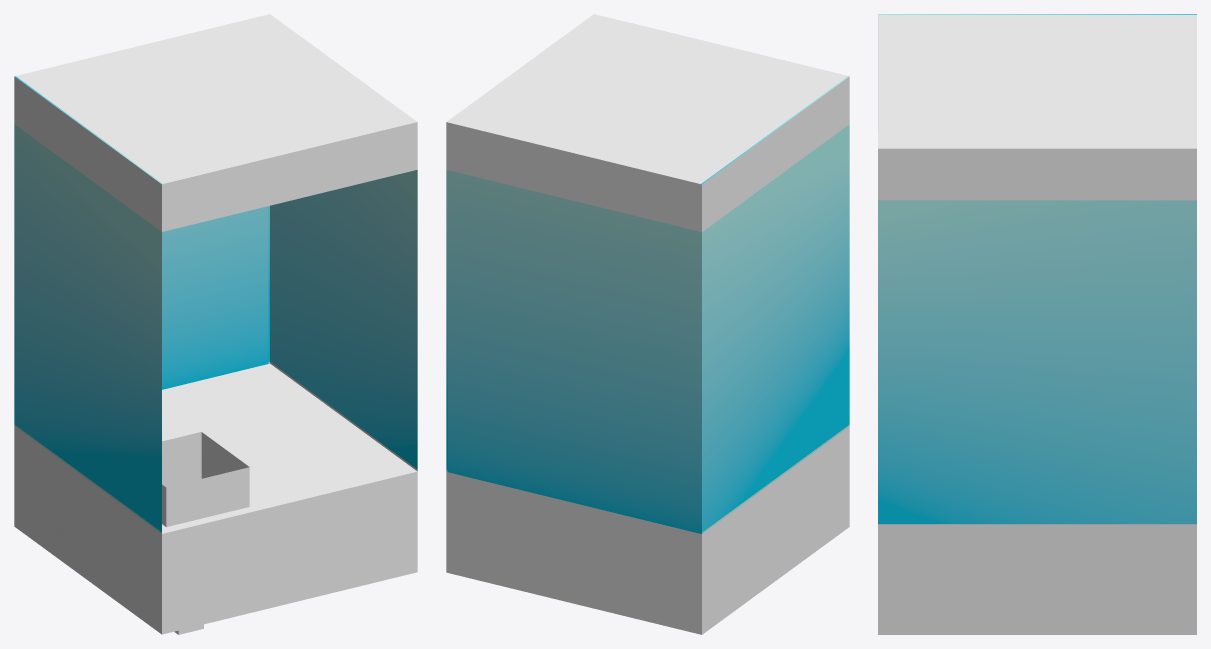
The model's file is frame.gltf.
The picture shows the model from 3 angles, left to right: view 1: azimuth 30°, elevation 25°; view 2: azimuth 150°, elevation 25°; view 3: azimuth 270°, elevation 25°; orthographic projection. The views are drawn at different scales.
Parts seen in each view (by area): view 1: body, col_panelL, col_panelR, col_panelB, col_floor.001, col_floor.008, col_exitPanelF, col_exitPanelB, col_exitPanelR, col_floor.007; view 2: body, col_panelB, col_panelL; view 3: col_panelR, body.
Boxes of the visible parts, x1,y1,x2,y2 form: body: (14, 14, 417, 634); col_panelL: (14, 124, 161, 533); col_panelR: (270, 170, 417, 471); col_panelB: (162, 206, 269, 389); col_floor.001: (162, 363, 362, 461); col_floor.008: (242, 432, 411, 506); col_exitPanelF: (166, 467, 249, 526); col_exitPanelB: (162, 432, 201, 480); col_exitPanelR: (201, 432, 249, 476); col_floor.007: (250, 467, 416, 510); body: (446, 14, 849, 634); col_panelB: (446, 170, 701, 533); col_panelL: (702, 124, 849, 533); col_panelR: (878, 200, 1196, 526); body: (878, 14, 1196, 634).
Size of the model in its own units: 20.2 by 36 by 20.2.
1 material, 1 textured.
